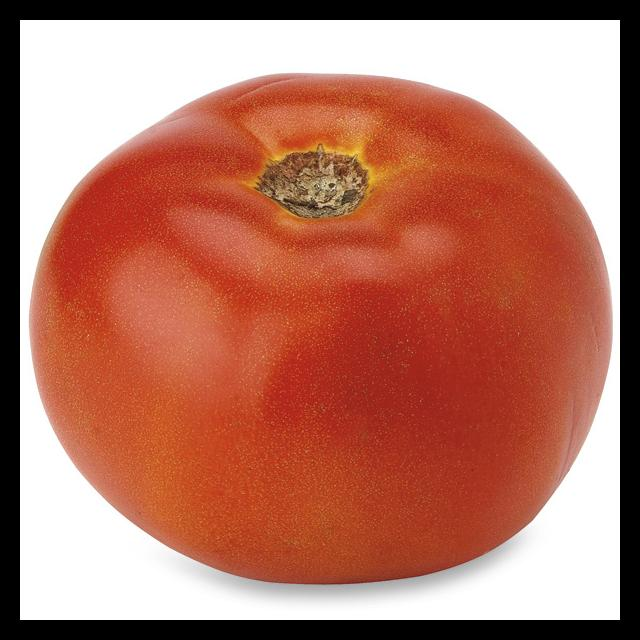tomato: (31, 74, 611, 582)
